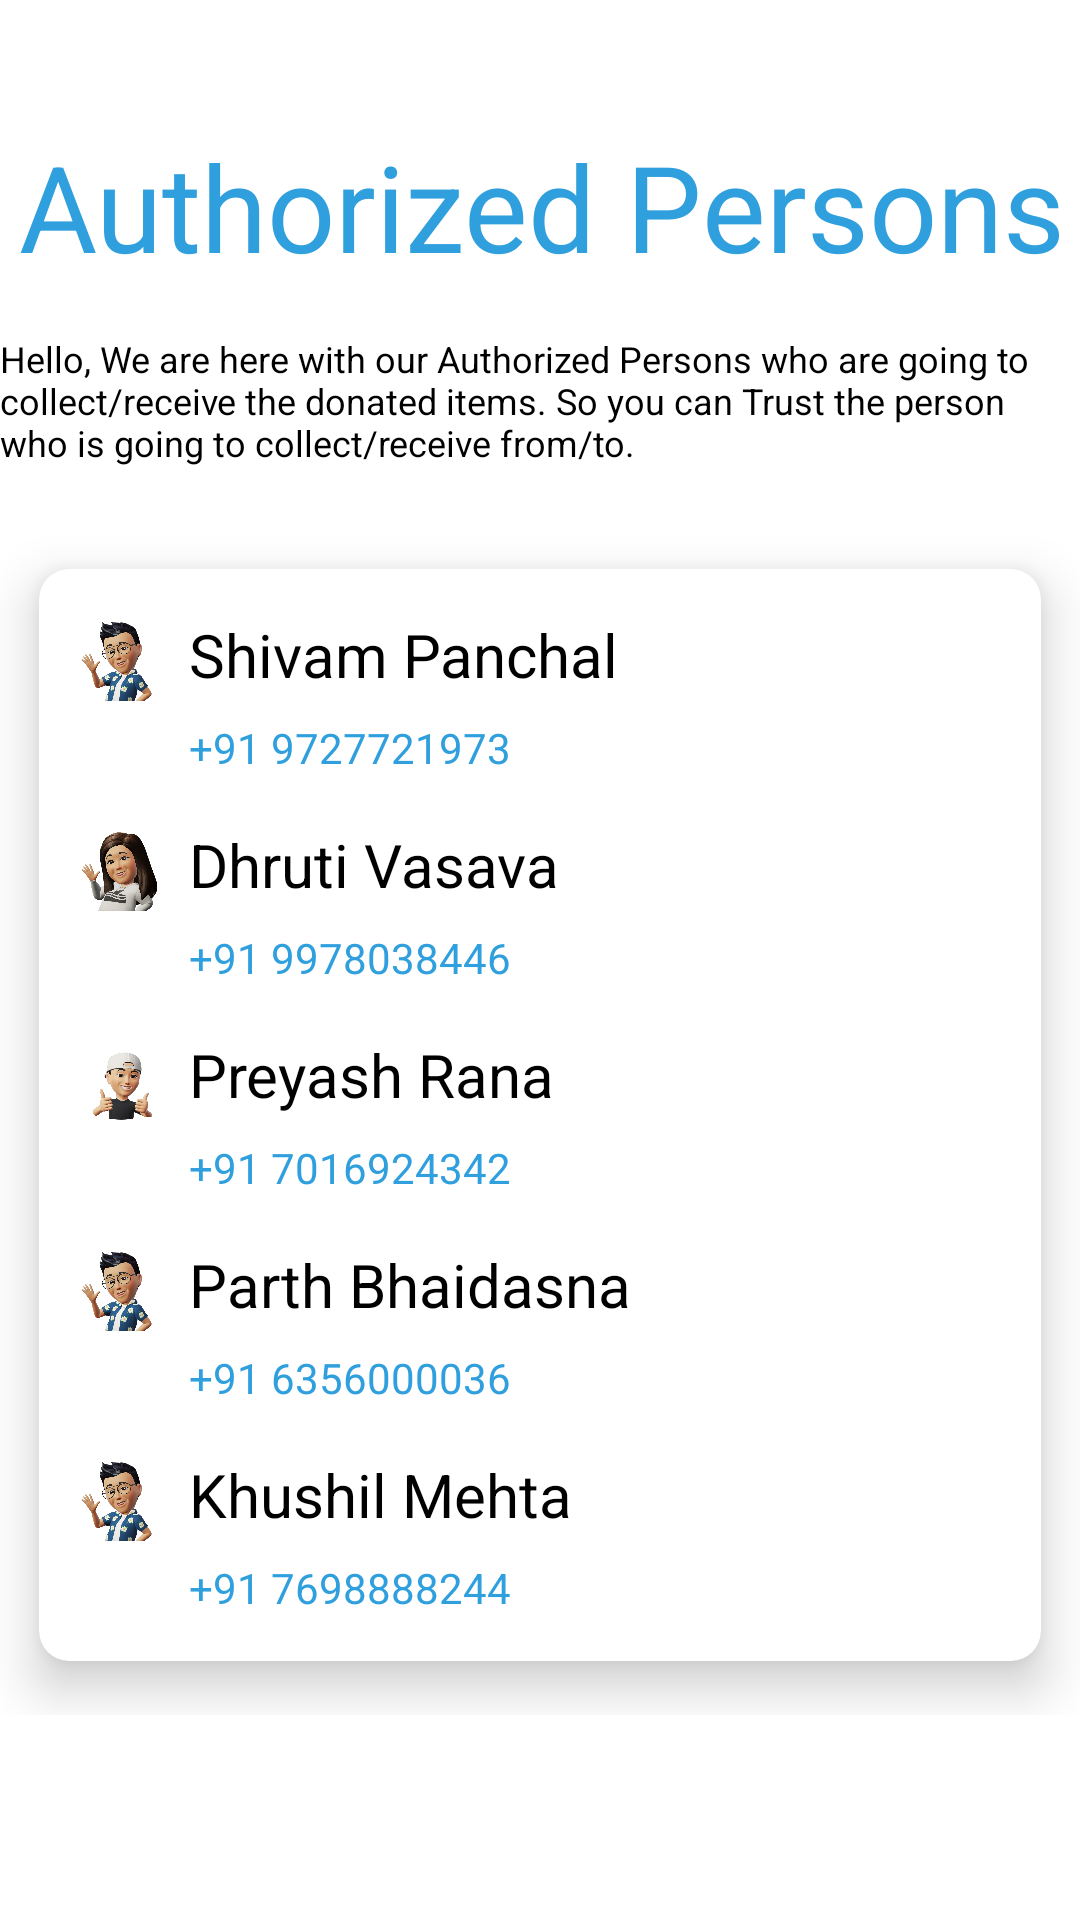

Point at icon controls on the screen. Image size 1080*1920, points as (x,y).
sticker: (117,661), (119,871), (122,1086), (117,1291), (117,1501)
